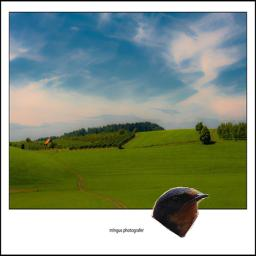Swallow: (151, 186, 211, 238)
